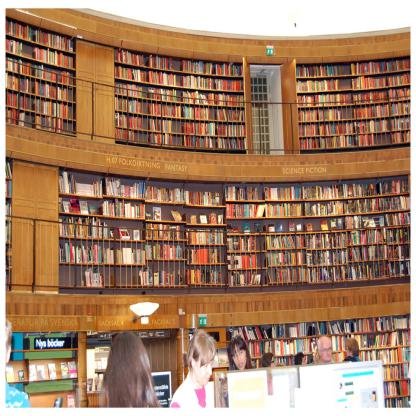book: (225, 174, 411, 284), (58, 166, 228, 286), (230, 313, 413, 407), (6, 16, 72, 132), (116, 49, 182, 142), (354, 56, 414, 148), (182, 63, 244, 151), (294, 64, 354, 150), (59, 362, 71, 379), (29, 362, 38, 382), (68, 361, 77, 379), (48, 364, 57, 378), (38, 366, 47, 378)
